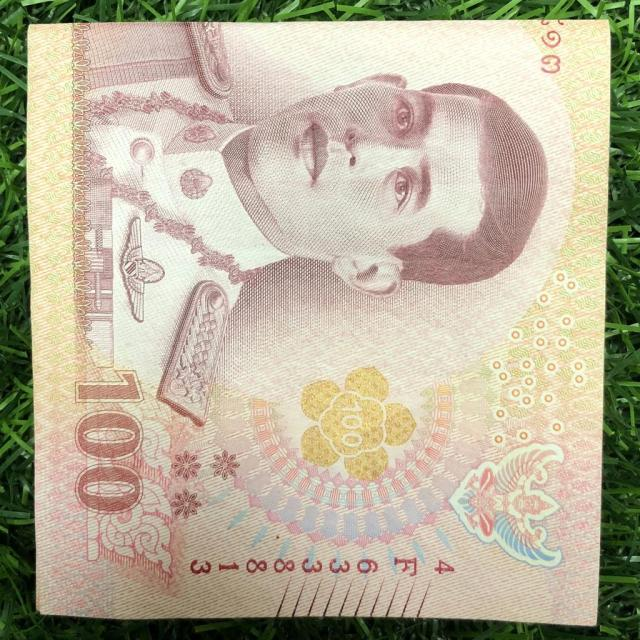THAI100: (26, 19, 613, 634)
